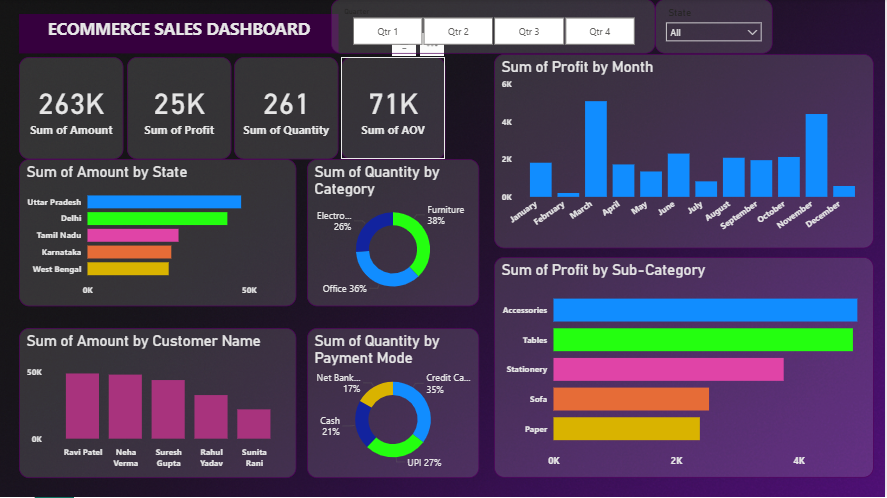

What the dashboard file says about the page in this screenshot:
{"tool":"powerbi","page":{"name":"Page 1","canvas":[1280,720],"ordinal":0},"visuals":[{"type":"columnChart","fields":{"Y":["Sum(order_details_full_year.Profit)"],"Category":["orders_full_year.Order Date.Variation.Date Hierarchy.Month"]},"box":[715.6,79,549.3,280.5],"z":0},{"type":"textbox","box":[28.6,21.8,461.9,57.1],"z":1000},{"type":"clusteredBarChart","fields":{"Category":["order_details_full_year.Sub-Category"],"Y":["Sum(order_details_full_year.Profit)"]},"box":[715.6,372.9,549.3,319.2],"z":2000},{"type":"donutChart","fields":{"Category":["order_details_full_year.Category"],"Y":["Sum(order_details_full_year.Quantity)"]},"box":[445.1,231.8,248.6,213.3],"z":3000},{"type":"donutChart","fields":{"Y":["Sum(order_details_full_year.Quantity)"],"Category":["order_details_full_year.Payment Mode"]},"box":[445.1,475.4,248.6,216.7],"z":4000},{"type":"card","fields":{"Values":["Sum(order_details_full_year.Amount)"]},"box":[28.6,84,151.2,147.8],"z":5000},{"type":"card","fields":{"Values":["Sum(order_details_full_year.Profit)"]},"box":[184.8,84,151.2,147.8],"z":6000},{"type":"card","fields":{"Values":["Sum(order_details_full_year.Quantity)"]},"box":[339.3,84,151.2,147.8],"z":7000},{"type":"card","fields":{"Values":["Sum(order_details_full_year.AOV)"]},"box":[493.9,84,151.2,147.8],"z":8000},{"type":"clusteredBarChart","fields":{"Category":["orders_full_year.State"],"Y":["Sum(order_details_full_year.Amount)"]},"box":[28.6,231.8,401.5,213.3],"z":9000},{"type":"columnChart","fields":{"Category":["orders_full_year.Customer Name"],"Y":["Sum(order_details_full_year.Amount)"]},"box":[29,475,401,217],"z":10000},{"type":"slicer","fields":{"Values":["orders_full_year.Order Date.Variation.Date Hierarchy.Quarter"]},"box":[480.4,0,468.7,79],"z":11000},{"type":"slicer","fields":{"Values":["orders_full_year.State"]},"box":[949.1,0,169.7,79],"z":12000}]}

Visuals, with their boxes in screenshot pixels (x1, y1, x2, y2), scaled from the page's 1280x720 canvas onto the 887x498 screenshot:
columnChart - Sum(order_details_full_year.Profit) x orders_full_year.Order Date.Variation.Date Hierarchy.Month: select_region(496, 55, 877, 249)
textbox: select_region(20, 15, 340, 55)
clusteredBarChart - order_details_full_year.Sub-Category x Sum(order_details_full_year.Profit): select_region(496, 258, 877, 479)
donutChart - order_details_full_year.Category x Sum(order_details_full_year.Quantity): select_region(308, 160, 481, 308)
donutChart - Sum(order_details_full_year.Quantity) x order_details_full_year.Payment Mode: select_region(308, 329, 481, 479)
card - Sum(order_details_full_year.Amount): select_region(20, 58, 125, 160)
card - Sum(order_details_full_year.Profit): select_region(128, 58, 233, 160)
card - Sum(order_details_full_year.Quantity): select_region(235, 58, 340, 160)
card - Sum(order_details_full_year.AOV): select_region(342, 58, 447, 160)
clusteredBarChart - orders_full_year.State x Sum(order_details_full_year.Amount): select_region(20, 160, 298, 308)
columnChart - orders_full_year.Customer Name x Sum(order_details_full_year.Amount): select_region(20, 329, 298, 479)
slicer - orders_full_year.Order Date.Variation.Date Hierarchy.Quarter: select_region(333, 0, 658, 55)
slicer - orders_full_year.State: select_region(658, 0, 775, 55)
